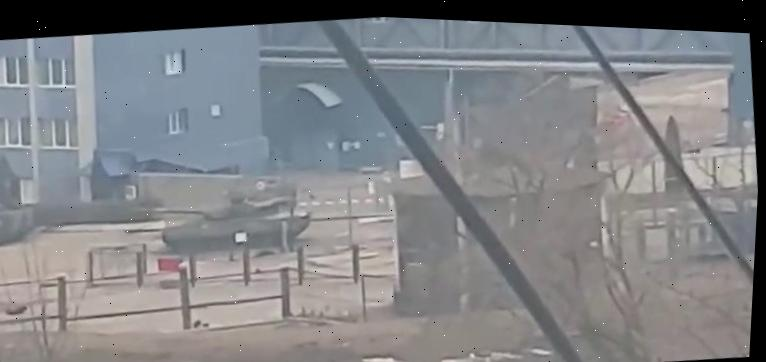tank: (126, 180, 314, 262), (0, 188, 42, 258)
